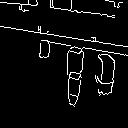cube: (94, 49, 120, 93), (60, 70, 88, 106), (65, 44, 86, 76), (34, 36, 55, 63)
